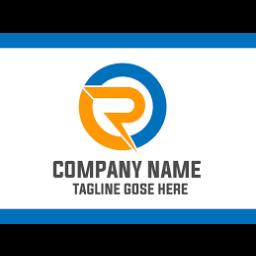r: (173, 182, 183, 196)
s: (140, 182, 148, 198)
